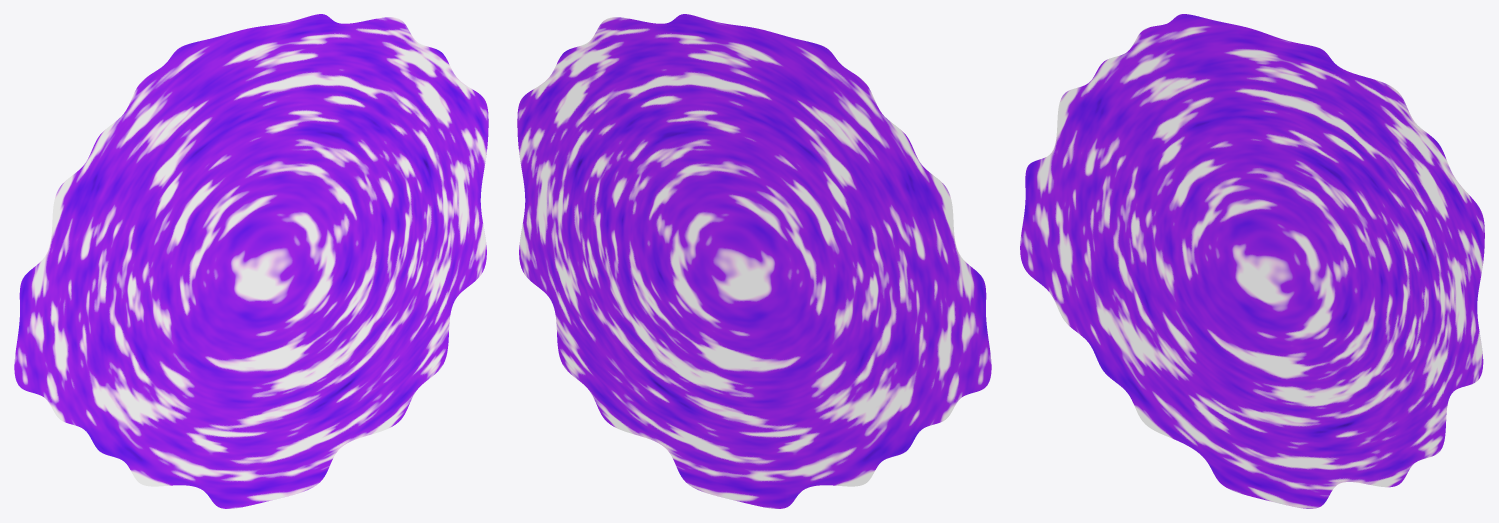
File: Portal.gltf
3 views of the same model, side by side, from view 1: azimuth 30°, elevation 25°; view 2: azimuth 150°, elevation 25°; view 3: azimuth 330°, elevation 25° (orthographic). The views are drawn at different scales.
Visible parts, largest first — view 1: Plane; view 2: Plane; view 3: Plane.
Boxes of the visible parts, <box> form: Plane: <box>14,14,488,508</box>; Plane: <box>517,14,991,508</box>; Plane: <box>1020,14,1484,508</box>.
Size of the model in its own units: 3.91 by 3.76 by 8.18e-09.
Materials: 1 (1 with a texture image).
